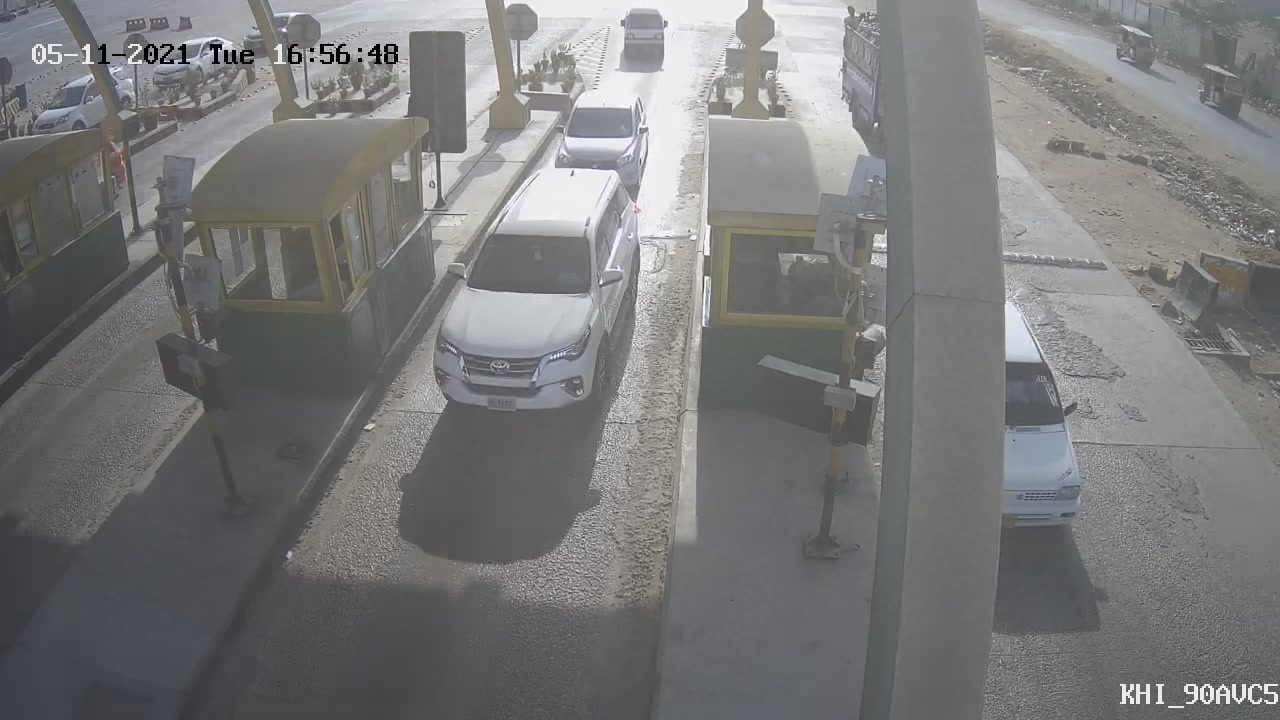F1: (405, 138, 679, 440), (535, 75, 668, 209)
